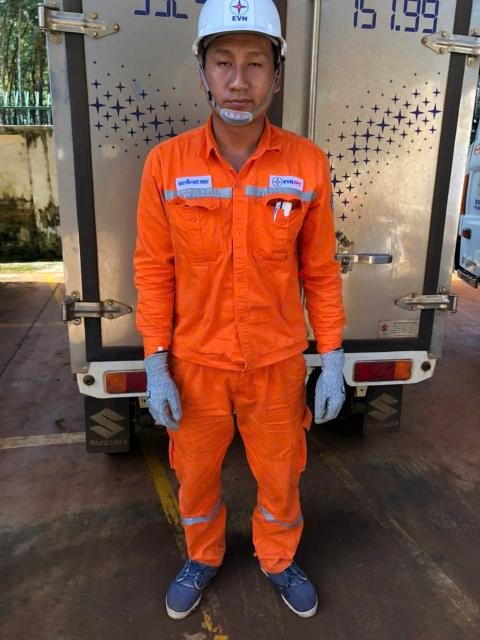gloves: (113, 342, 197, 428), (303, 343, 357, 432)
helmet: (179, 0, 320, 70)
shoes: (136, 533, 236, 627), (252, 543, 328, 622)
